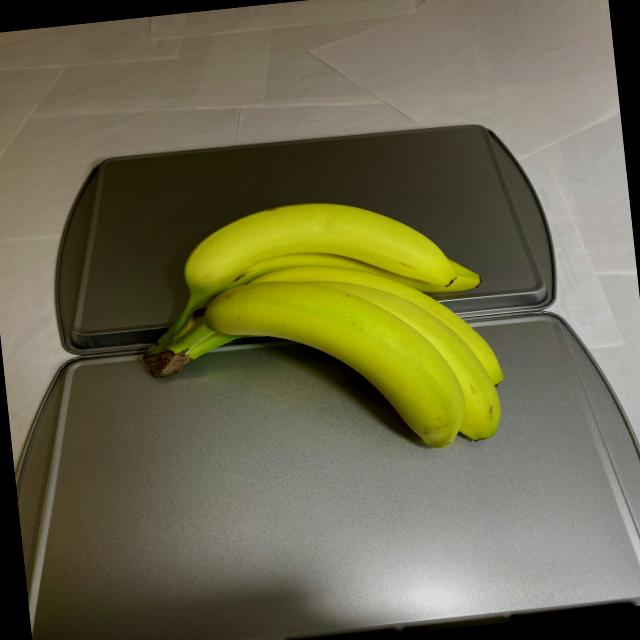banana: (123, 185, 509, 481)
